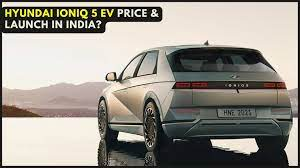Honda Ioniq: (94, 40, 293, 159)
